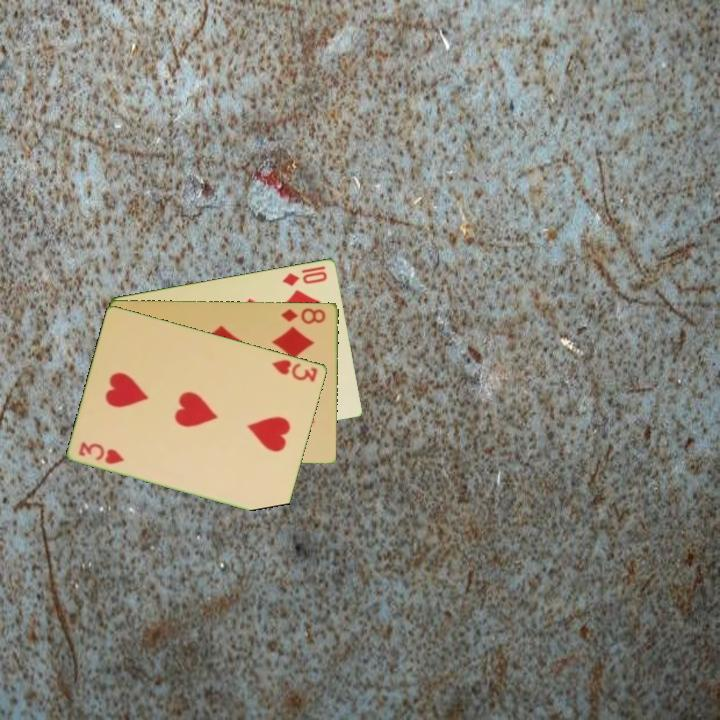10d: (279, 267, 330, 289)
3h: (269, 356, 321, 385), (76, 438, 127, 467)
8d: (278, 304, 329, 327)
